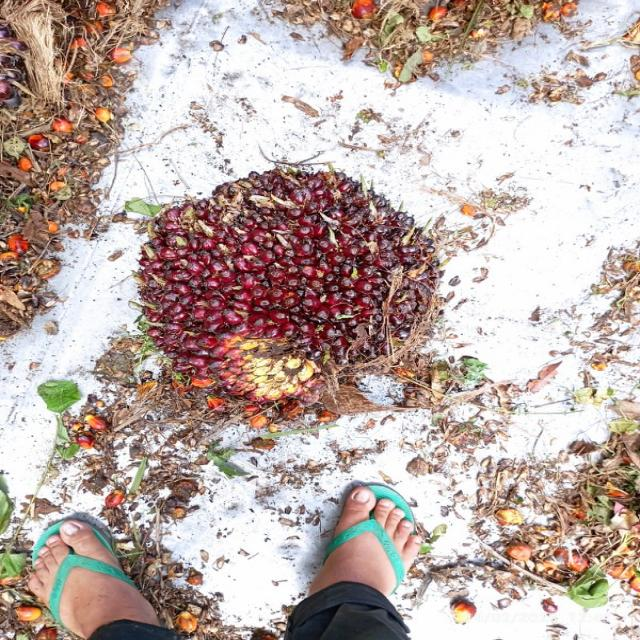fraksi 1: (98, 100, 478, 454)
